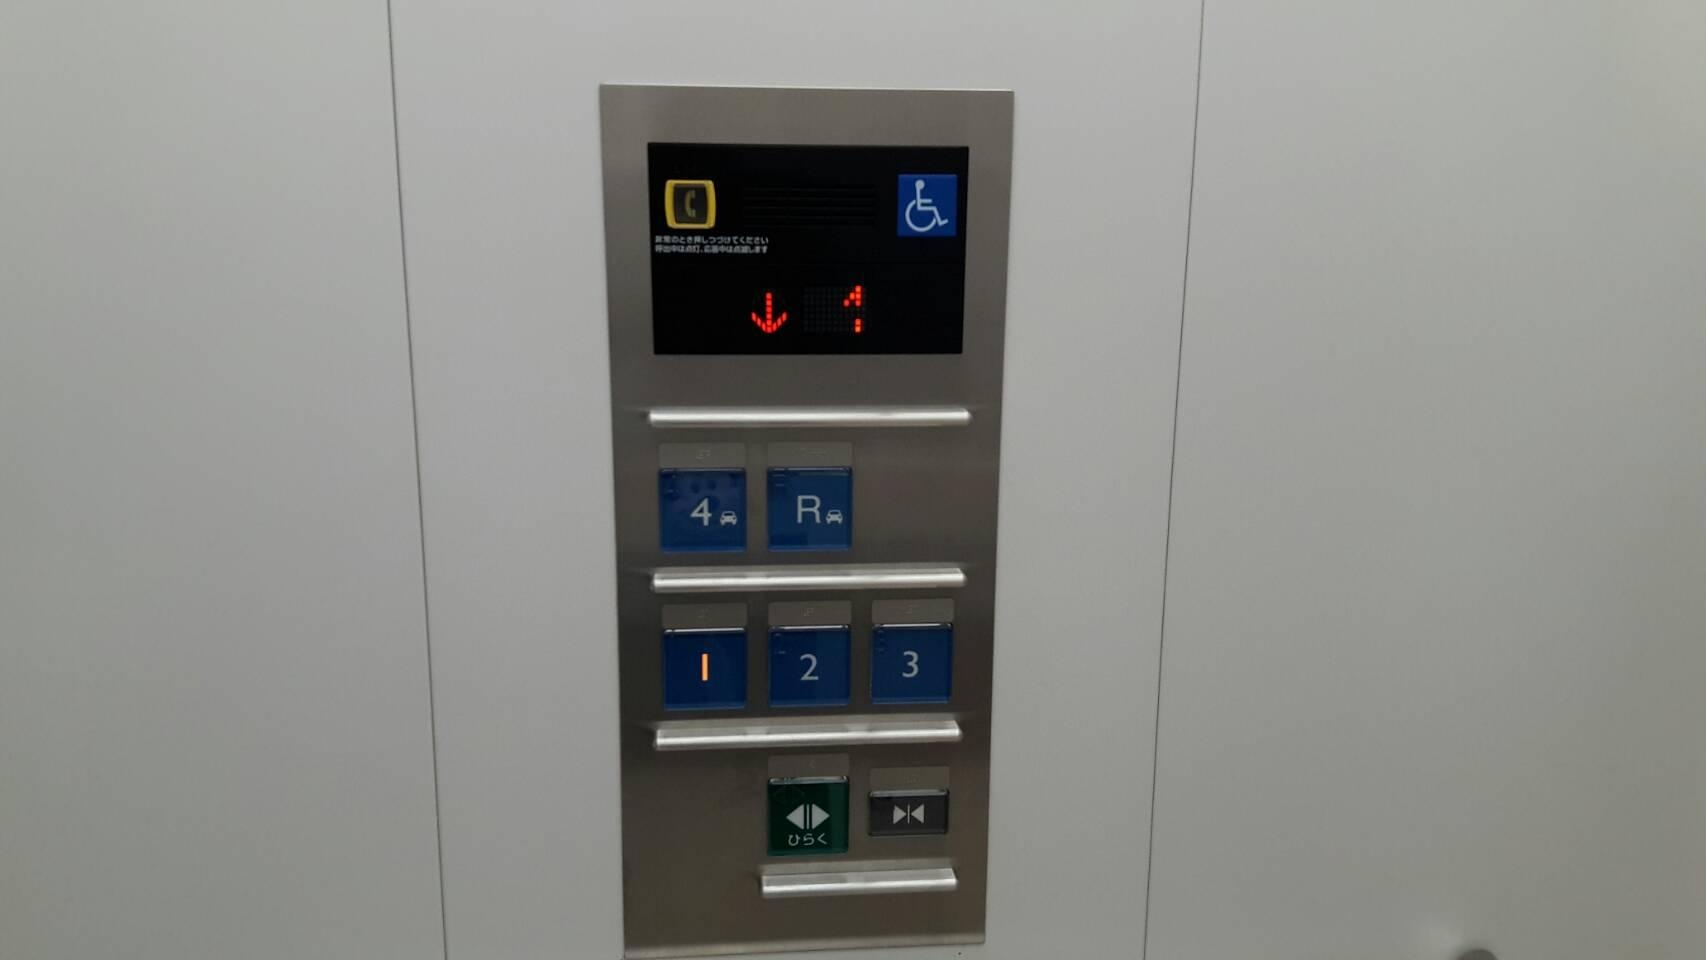1: (653, 622, 755, 715)
2: (763, 622, 849, 712)
3: (862, 622, 954, 712)
4: (651, 463, 750, 557)
CH: (894, 173, 961, 244)
R: (760, 463, 857, 559)
call: (663, 173, 721, 232)
close: (864, 787, 954, 839)
led: (724, 271, 886, 349)
open: (758, 776, 853, 860)
